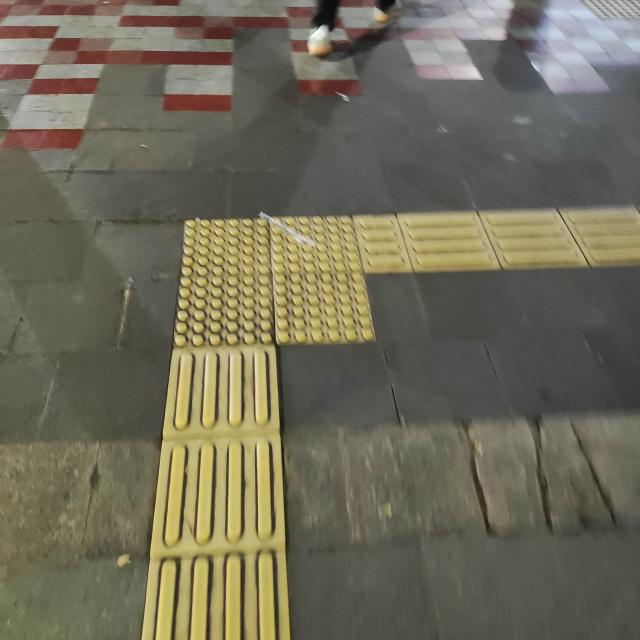kanan: (105, 186, 533, 378)
